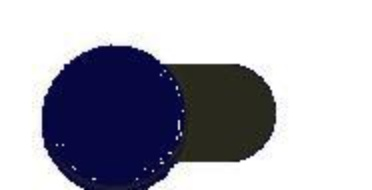Switch: (1, 1, 371, 189)
